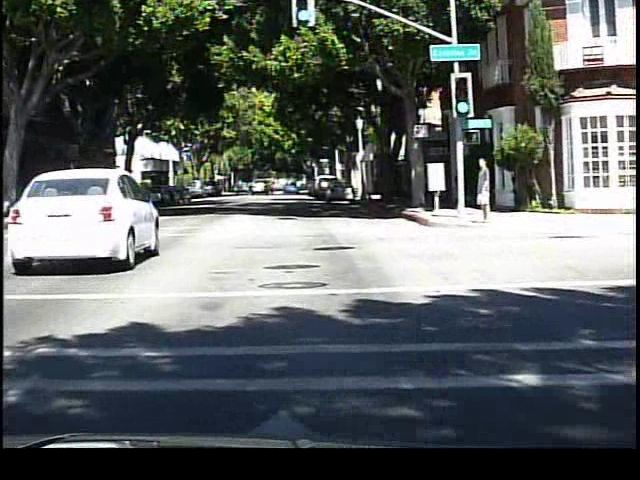person: (472, 156, 496, 225)
